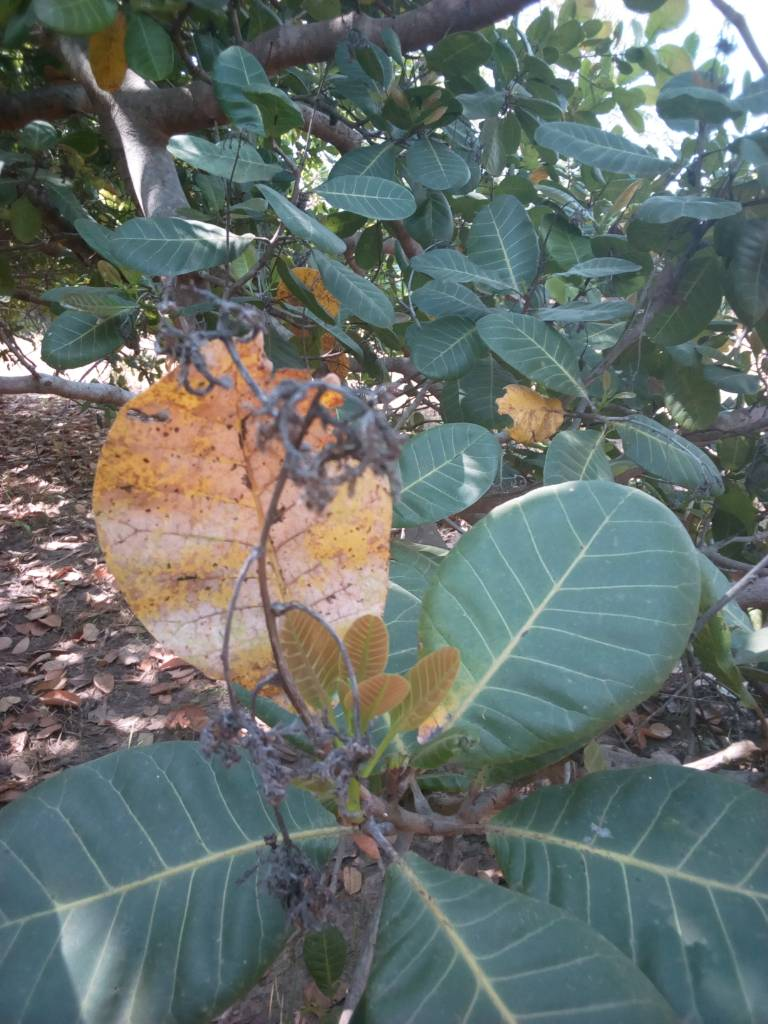Dessèchement des bourgeons: (150, 305, 411, 507)
